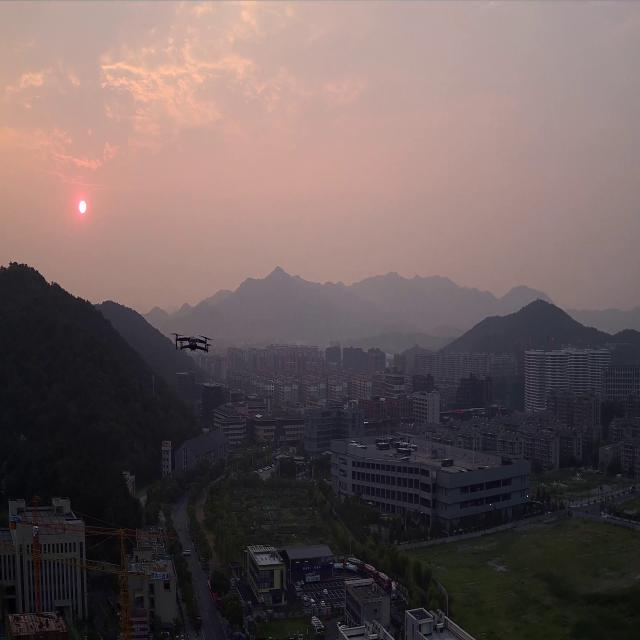UAV: (169, 329, 215, 355)
